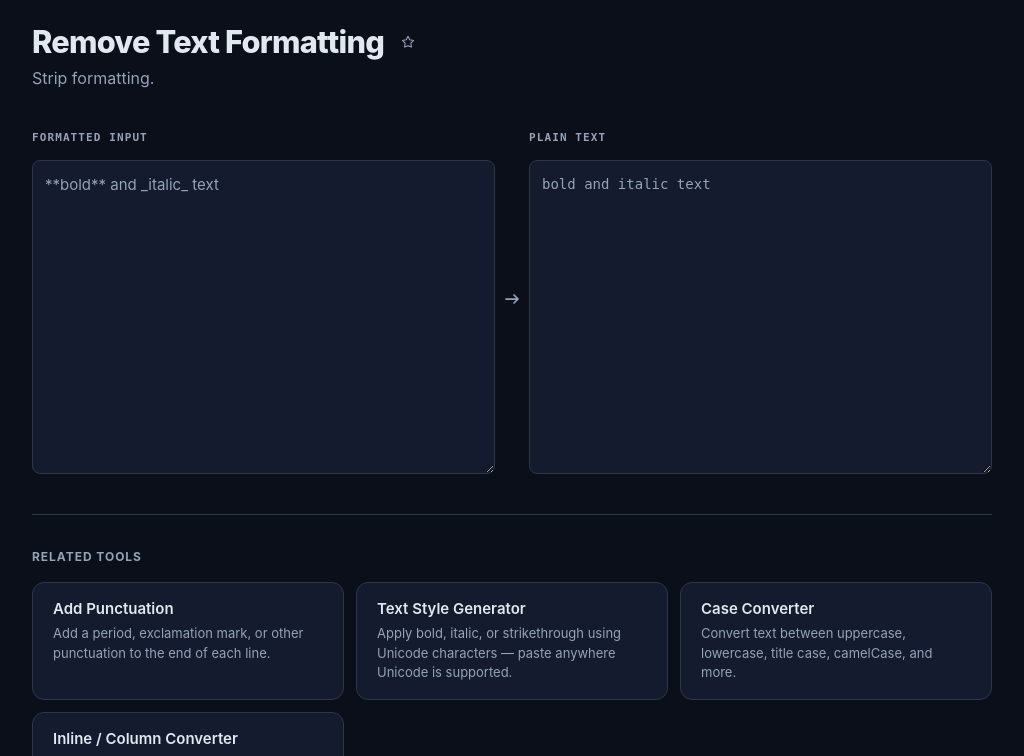
Scenario: RemoveTextFormatting › strips markdown bold
This screenshot has width=1024, height=756.
Type "**bold**" into the text box named "formatted".
click(264, 317); type("**bold**")  # box [32,160,495,474]
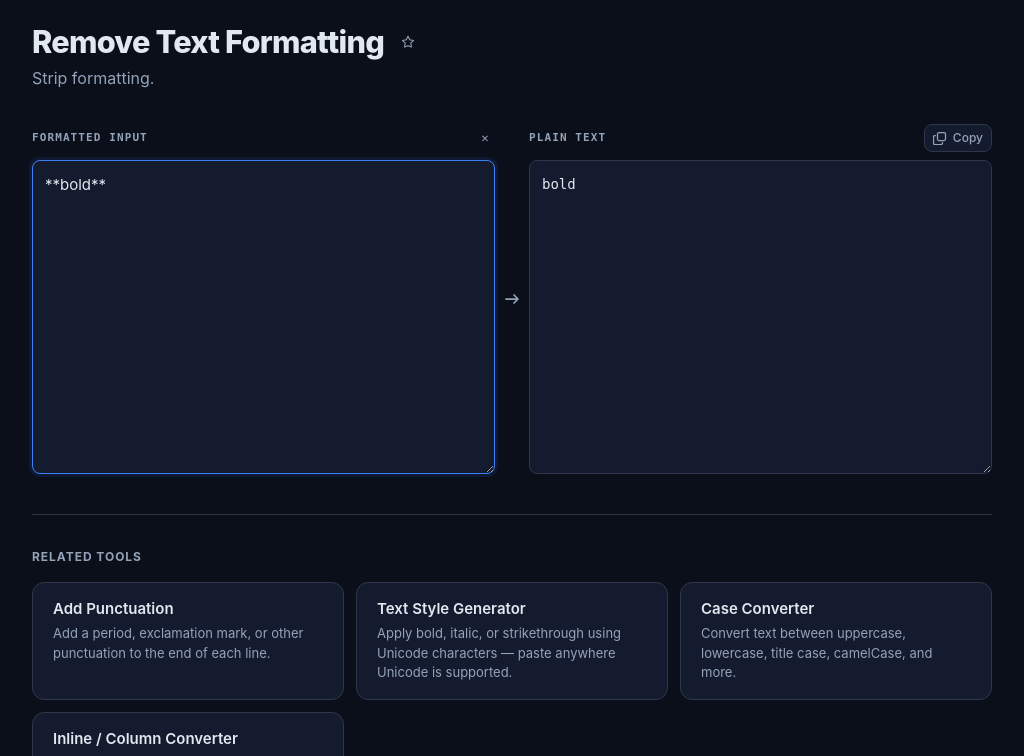
Result: the text box named "plain text" holds "bold" at [529,160,992,474]
